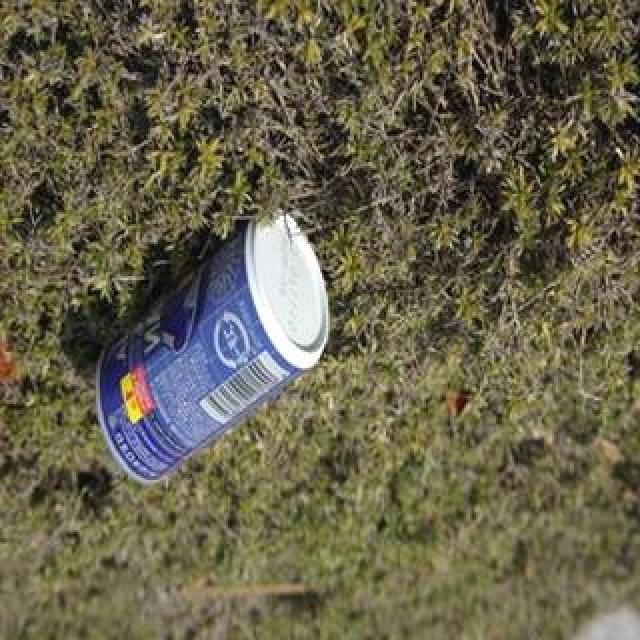Can: (86, 199, 364, 491)
